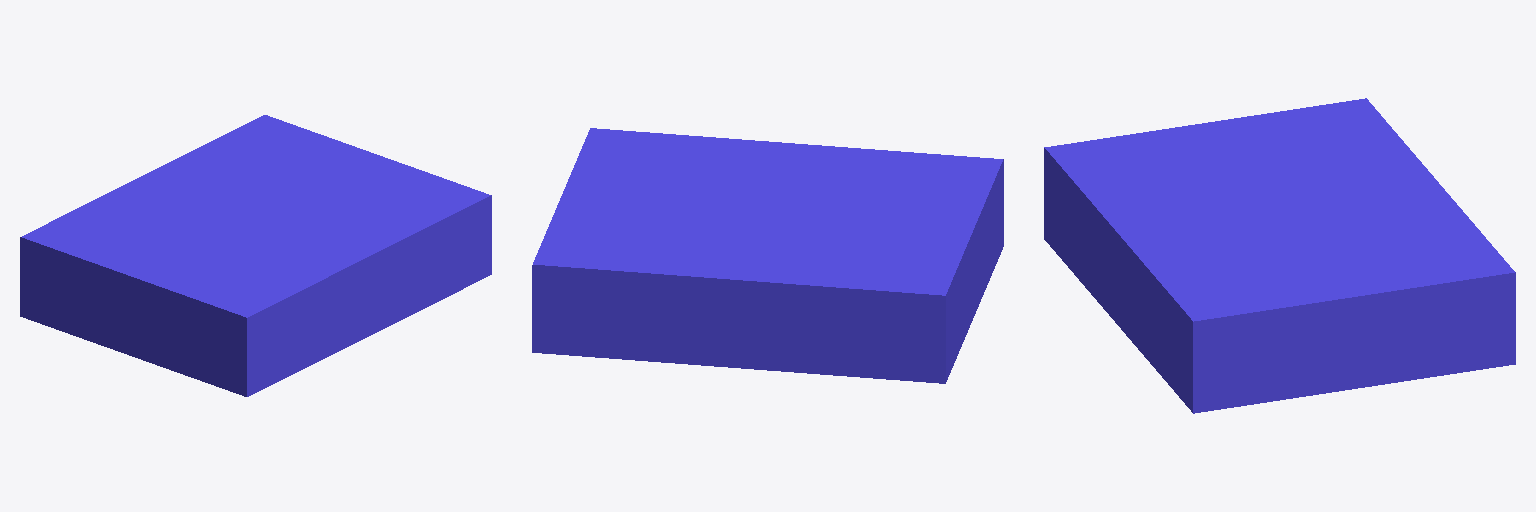
robot.urdf — Interference:
<?xml version="1.0"?>
<robot name="Interference">
  <link name="baseLink">
    <inertial>
      <origin xyz="0.0 0.0 0.0" rpy="0.0 0.0 0.0"/>
      <inertia ixx="0.0" ixy="0.0" ixz="0.0" iyy="0.0" iyz="0.0" izz="0.0"/>
      <mass value="0"/>
    </inertial>
    <visual>
      <origin xyz="0.0 0.0 0.0" rpy="0.0 0.0 0.34661099630315473"/>
      <geometry>
        <box size="0.04314023433792179 0.03372598750739057 0.01"/>
      </geometry>
      <material name="color">
        <color rgba="0.3895118552601674 0.3587428237873769 0.9761634373778635 1.0"/>
      </material>
    </visual>
  </link>
</robot>

--- Facts derived from the render (not from the file) ---
3 views of the same robot in one strip: view 1: azimuth 30°, elevation 25°; view 2: azimuth 150°, elevation 25°; view 3: azimuth 270°, elevation 25° (orthographic).
Robot: Interference — 1 links, 0 joints (none); root link baseLink; default pose: all joints at 0.
Visible links, largest first — view 1: baseLink; view 2: baseLink; view 3: baseLink.
Boxes of the visible links, bbox=[...] form: baseLink: bbox=[20, 115, 491, 396]; baseLink: bbox=[532, 128, 1003, 383]; baseLink: bbox=[1044, 98, 1515, 413].
Size in the robot's own frame: 0.052 by 0.0464 by 0.01 metres.
Geometry: primitives only (box / cylinder / sphere), no mesh files.
